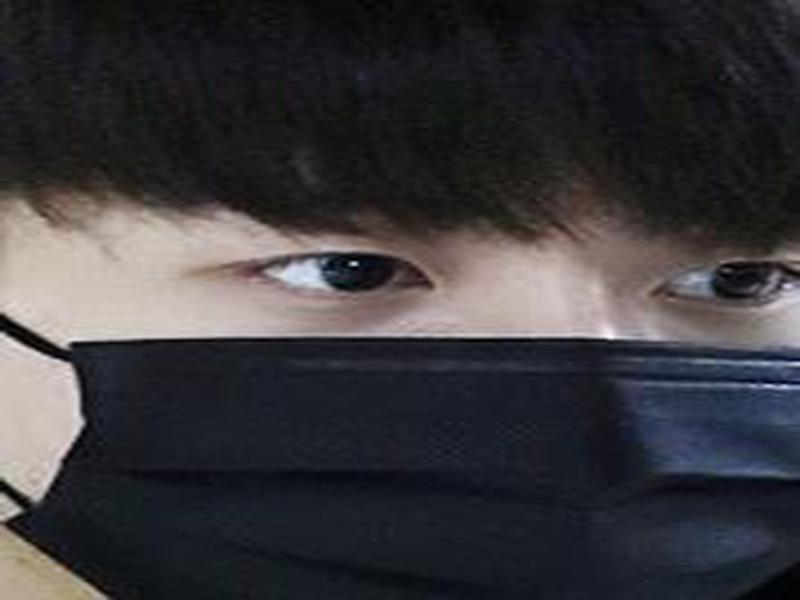with_mask: (1, 173, 799, 600)
